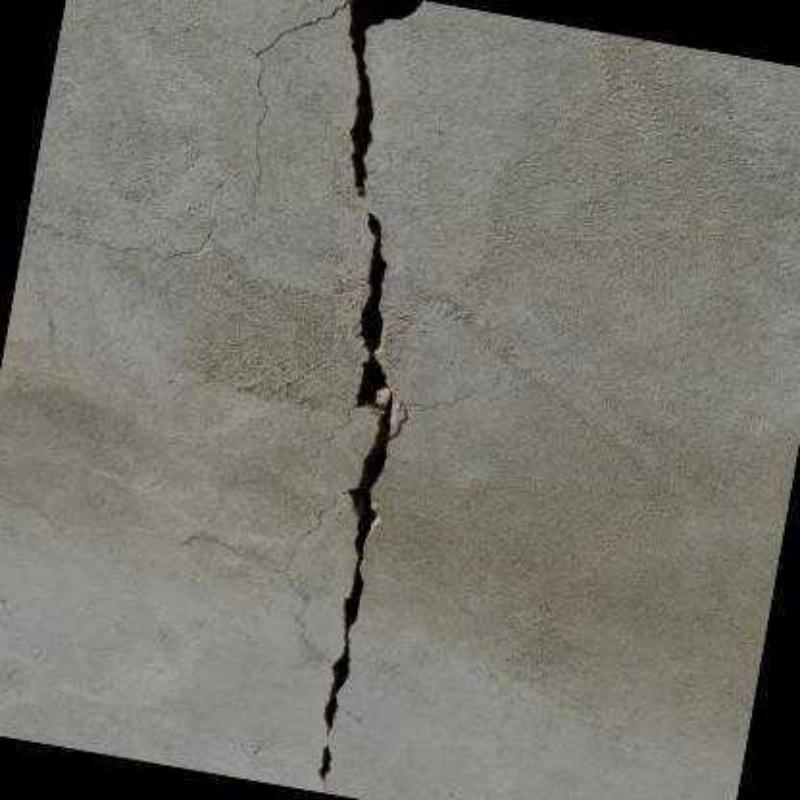pothole: (316, 0, 423, 793), (251, 2, 349, 200)
